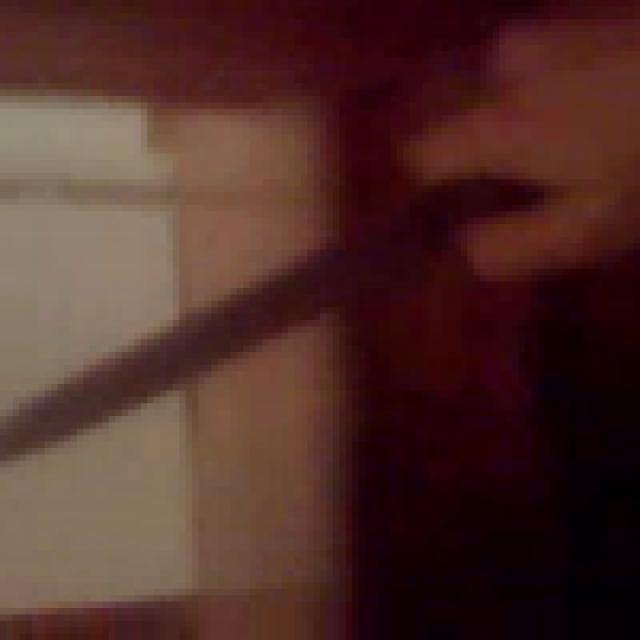Knife_Handle: (0, 19, 640, 467)
